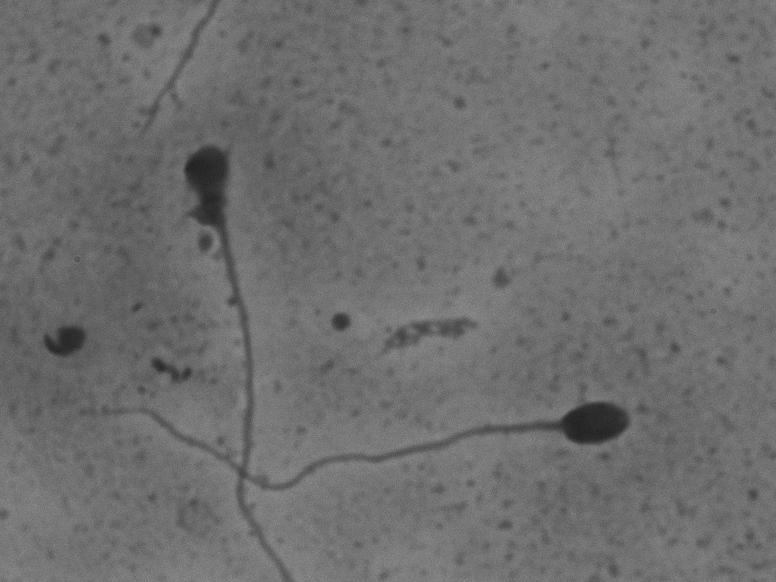Abnormal: (162, 114, 310, 578)
Normal: (72, 351, 662, 508)
